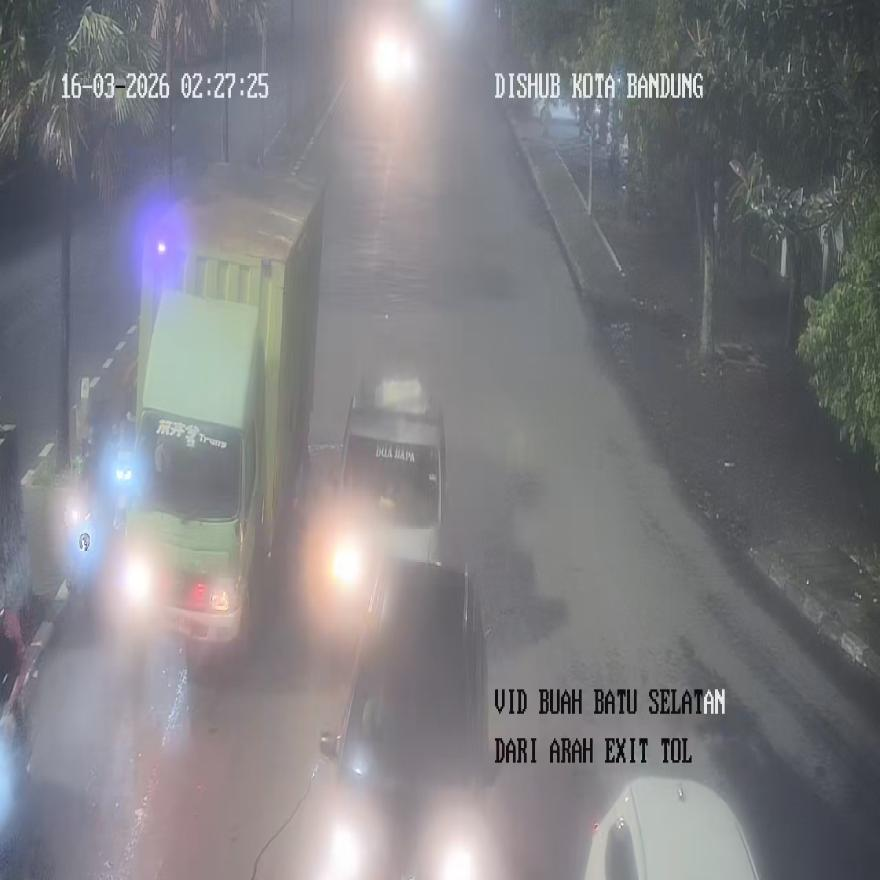Mobil: (319, 542, 495, 876), (316, 366, 446, 646), (582, 776, 760, 879)
